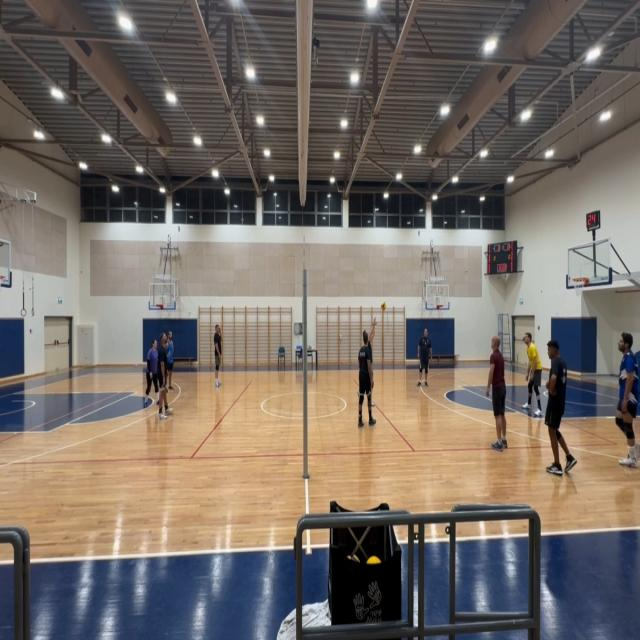volleyball: (381, 300, 386, 311)
